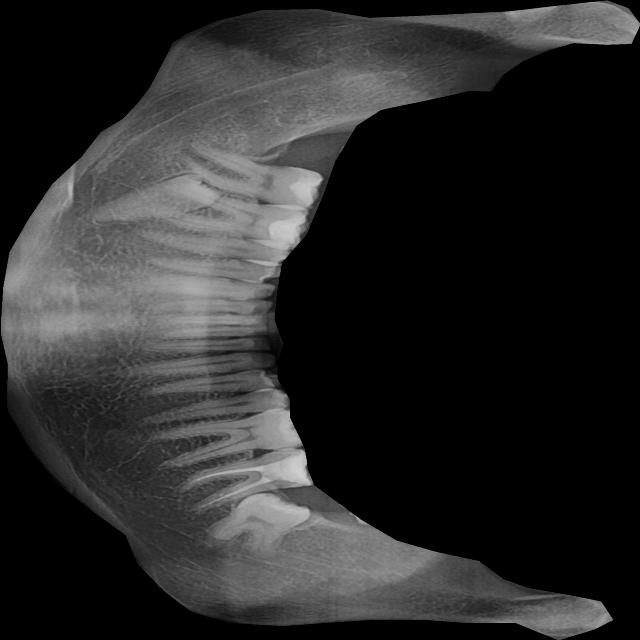mandibula: (0, 0, 640, 640)
